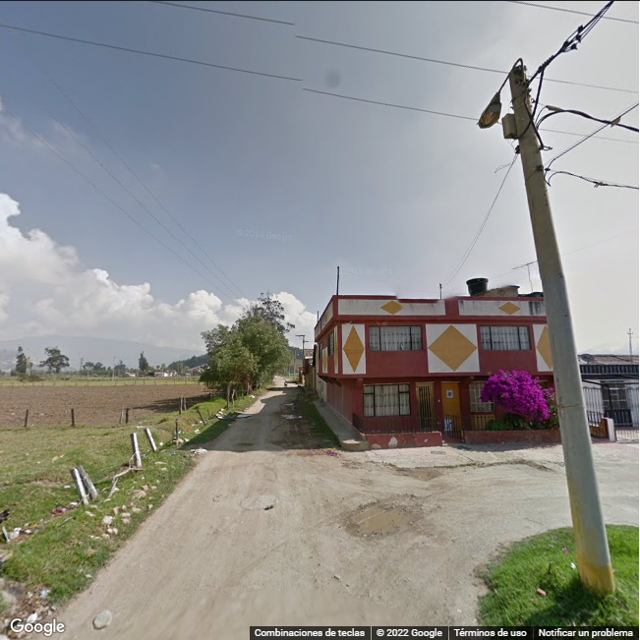D40: (345, 497, 419, 536)
